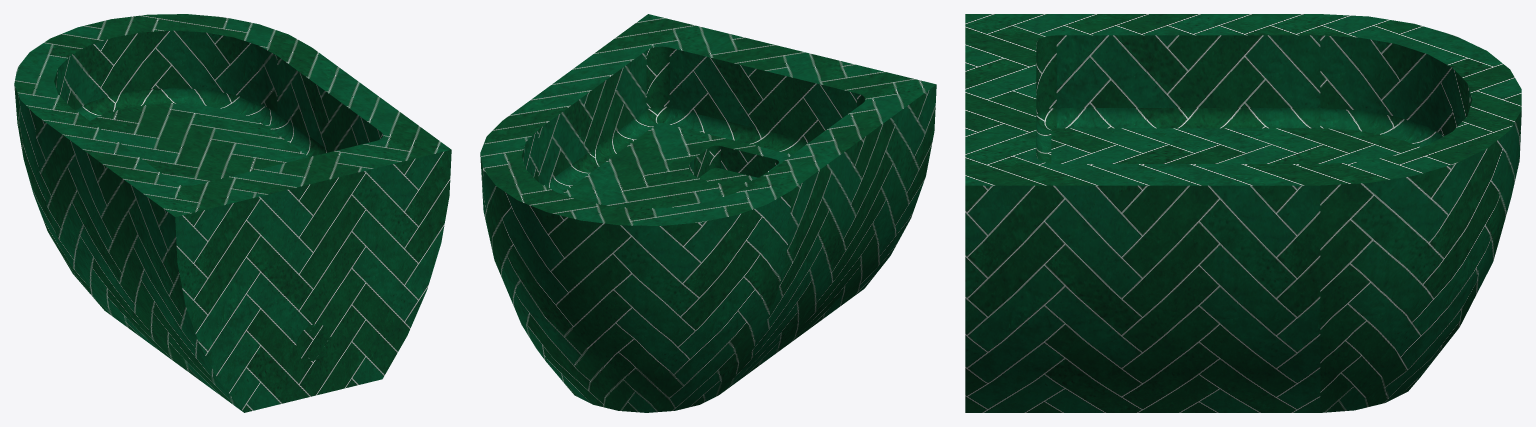
3 views of the same model, side by side, from view 1: azimuth 30°, elevation 25°; view 2: azimuth 150°, elevation 25°; view 3: azimuth 270°, elevation 25° (orthographic). The views are drawn at different scales.
Size of the model in its own units: 0.4 by 0.294 by 0.5485.
Materials: 1 (1 with a texture image).
